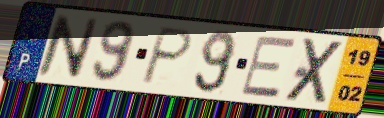9: (191, 28, 239, 96), (90, 20, 137, 85)
E: (238, 35, 298, 100)
N: (34, 13, 102, 82)
P: (137, 24, 196, 87)
X: (281, 37, 348, 106)
